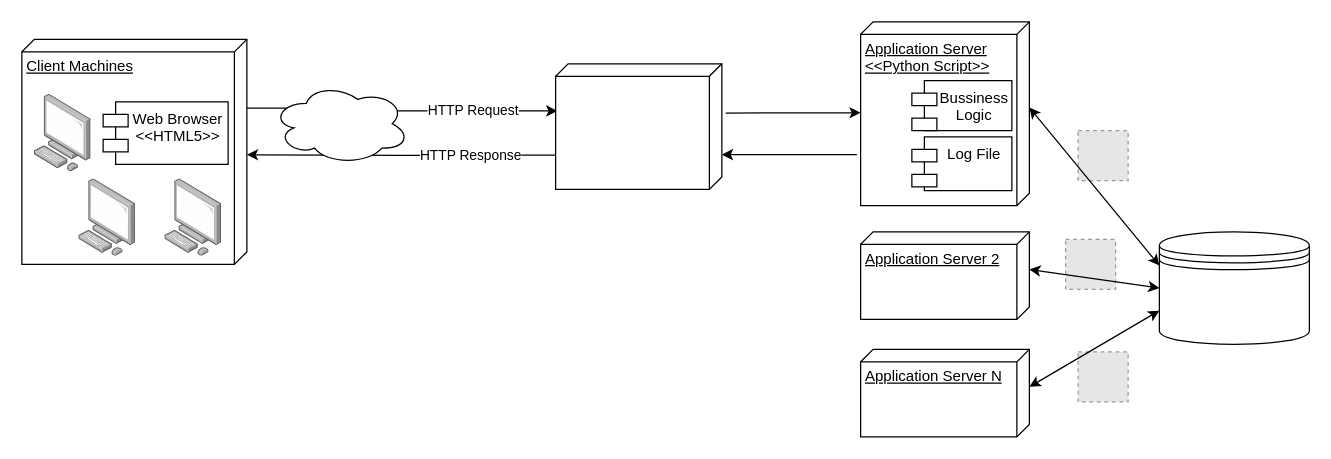
Image size: 1331x459. Some labels were removed from this diagram. Grey dashed boxes stand in for pictures. Here are the shapes that lost their labels. From the top down, the centre of each, then its label:
the point at 340,123: Internet
the point at 638,125: Web Server
the point at 1233,287: Database <<PostgreSQL>>
